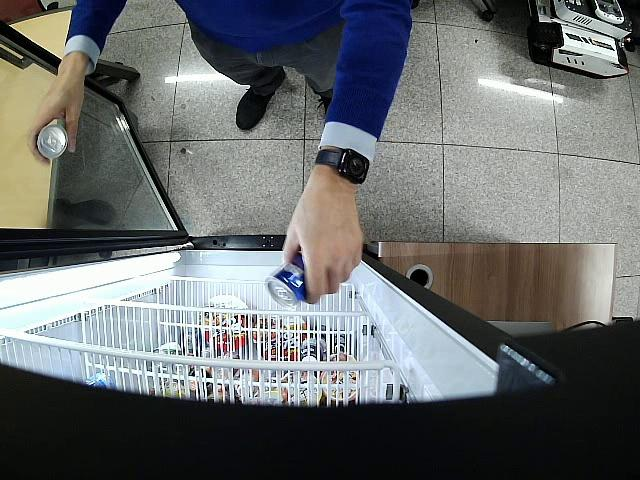00_hand: (283, 184, 362, 305), (29, 60, 84, 167)
16_hot6: (267, 251, 307, 307)
